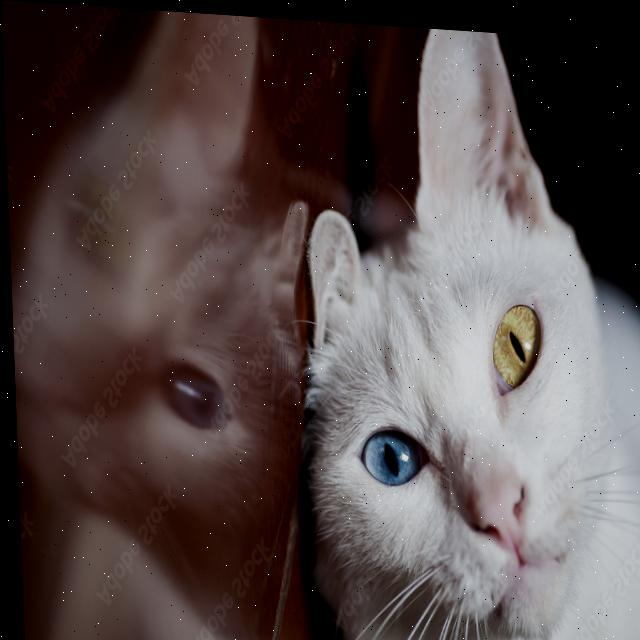Khao Manee: (278, 15, 640, 640)
